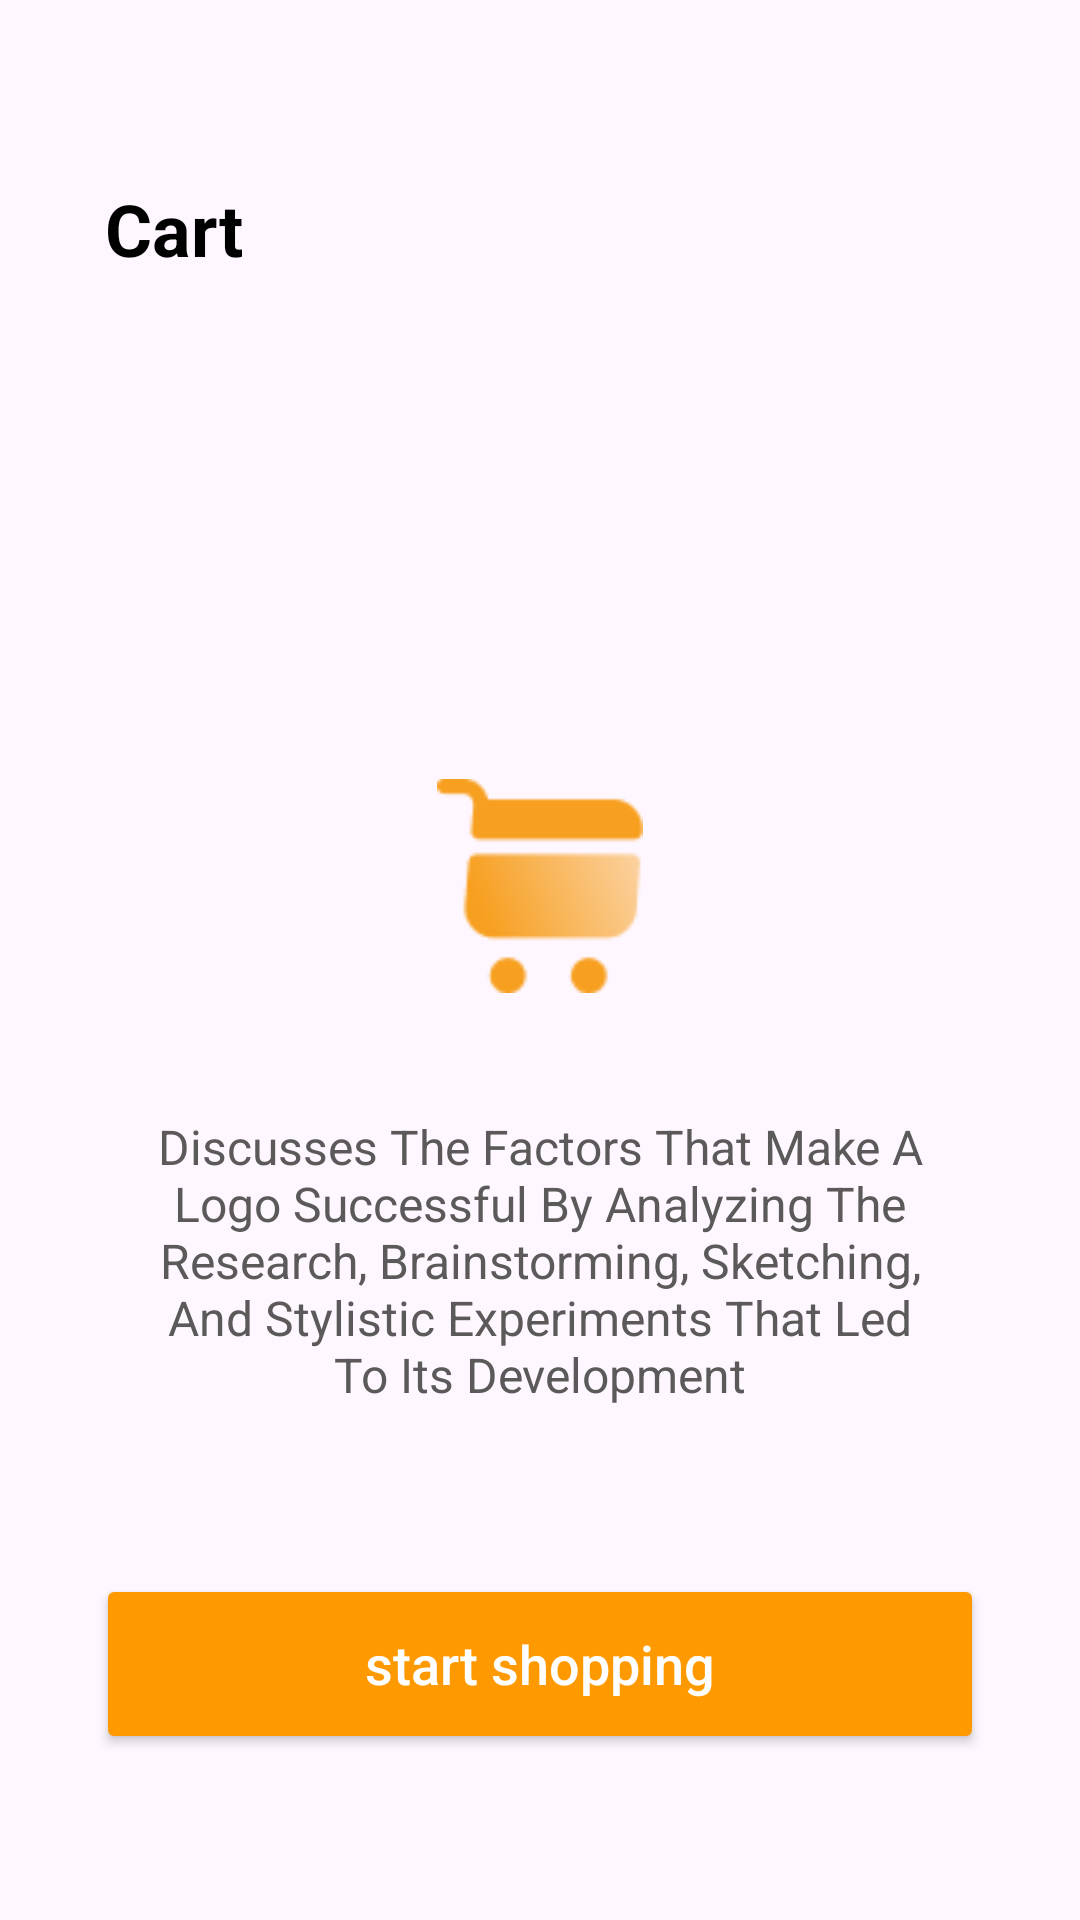

Screen size 1080x1920. Icon name, then its center in pixels as [x,y]:
Shopping Cart Icon: [540,886]
